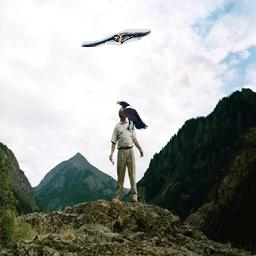Crow: (116, 101, 148, 130)
Swallow: (81, 29, 151, 47)
